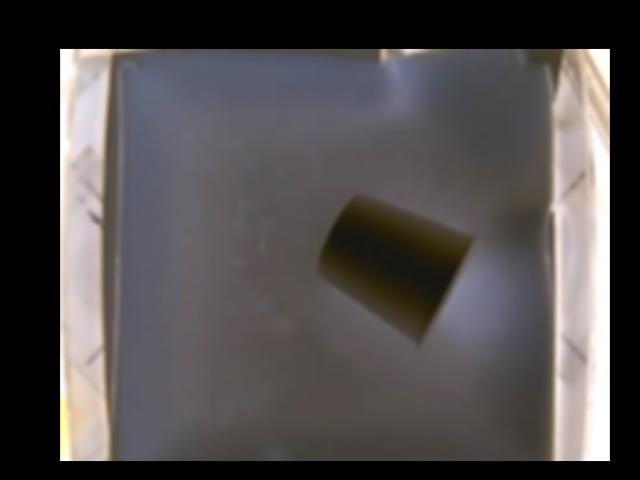Cup: (315, 194, 481, 352)
